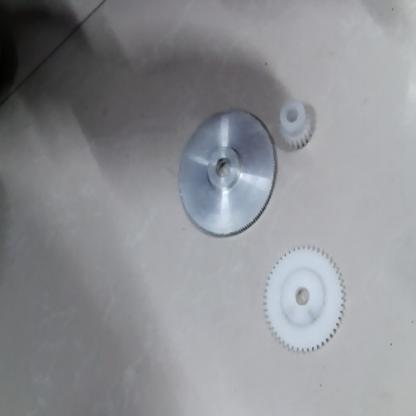FOD: (175, 106, 272, 242), (264, 240, 352, 355), (277, 90, 320, 154)
